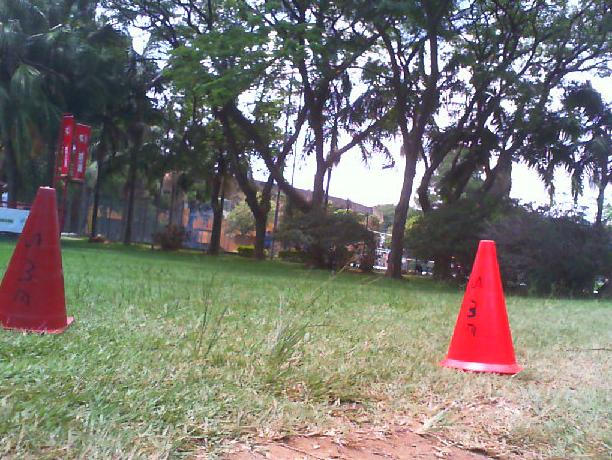0 cone: (437, 240, 524, 375), (0, 187, 74, 335)
